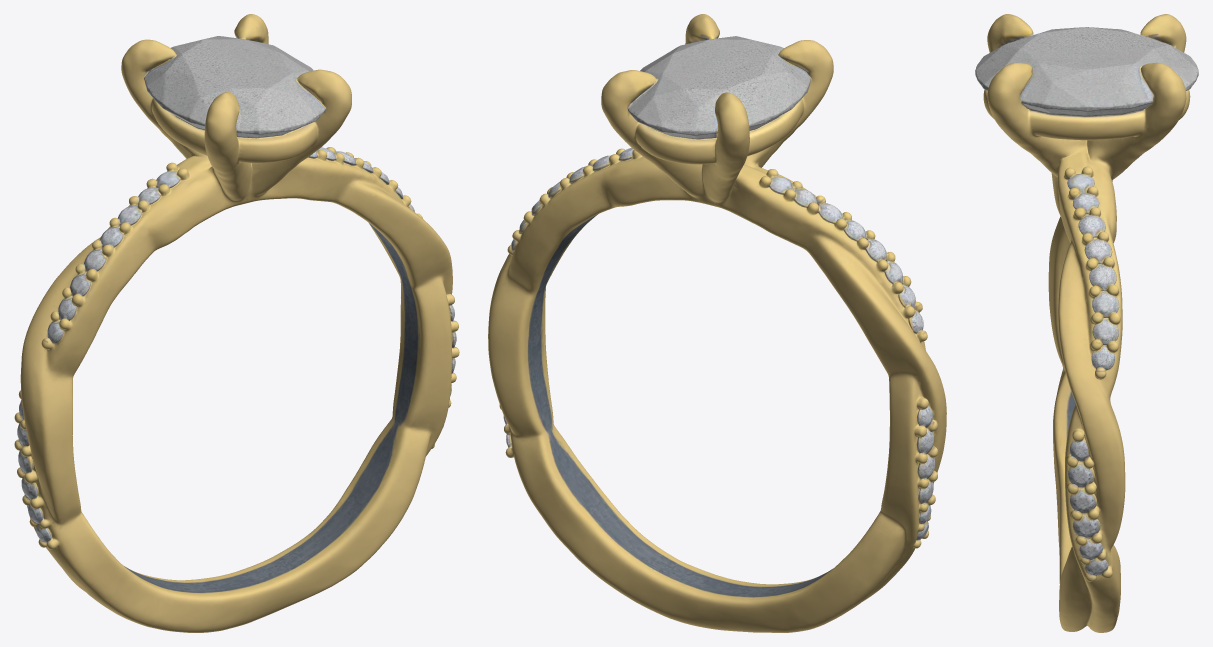
Rendered from ring.glb.
3 views of the same model, side by side, from view 1: azimuth 30°, elevation 25°; view 2: azimuth 150°, elevation 25°; view 3: azimuth 270°, elevation 25° (orthographic).
Parts seen in each view (by area): view 1: tripo_node_9372805e-1bf3-4ccd-be4f-706d75d5751a; view 2: tripo_node_9372805e-1bf3-4ccd-be4f-706d75d5751a; view 3: tripo_node_9372805e-1bf3-4ccd-be4f-706d75d5751a.
Part boxes in pixels (x1=…): tripo_node_9372805e-1bf3-4ccd-be4f-706d75d5751a: x1=14, y1=14, x2=459, y2=632; tripo_node_9372805e-1bf3-4ccd-be4f-706d75d5751a: x1=488, y1=14, x2=946, y2=632; tripo_node_9372805e-1bf3-4ccd-be4f-706d75d5751a: x1=975, y1=14, x2=1198, y2=632.
Size of the model in its own units: 0.8048 by 1 by 0.3562.
Materials: 1 (1 with a texture image).
